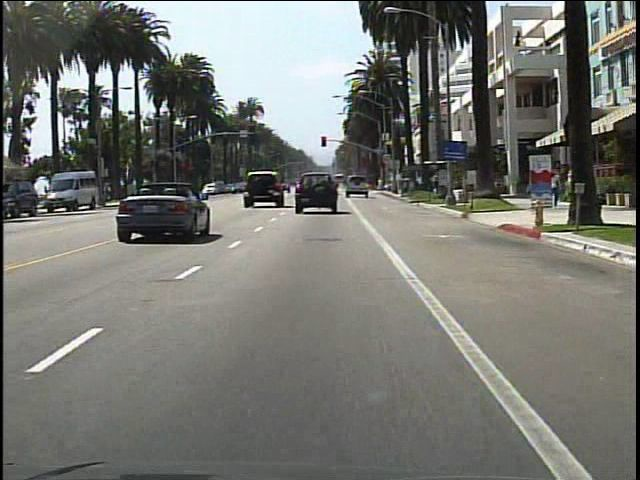person: (551, 171, 561, 210)
